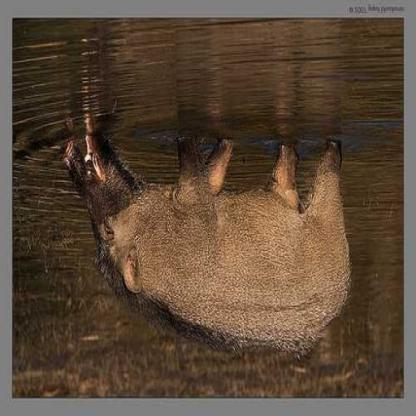boar: (52, 108, 354, 354)
